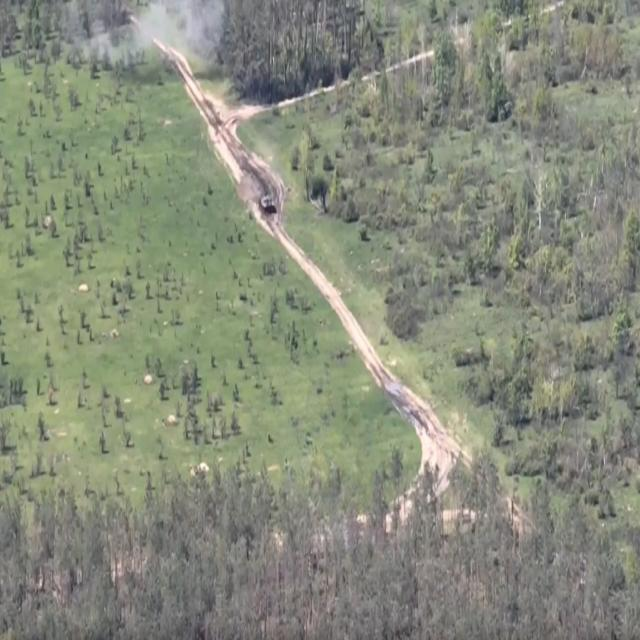MBT: (262, 192, 277, 215)
